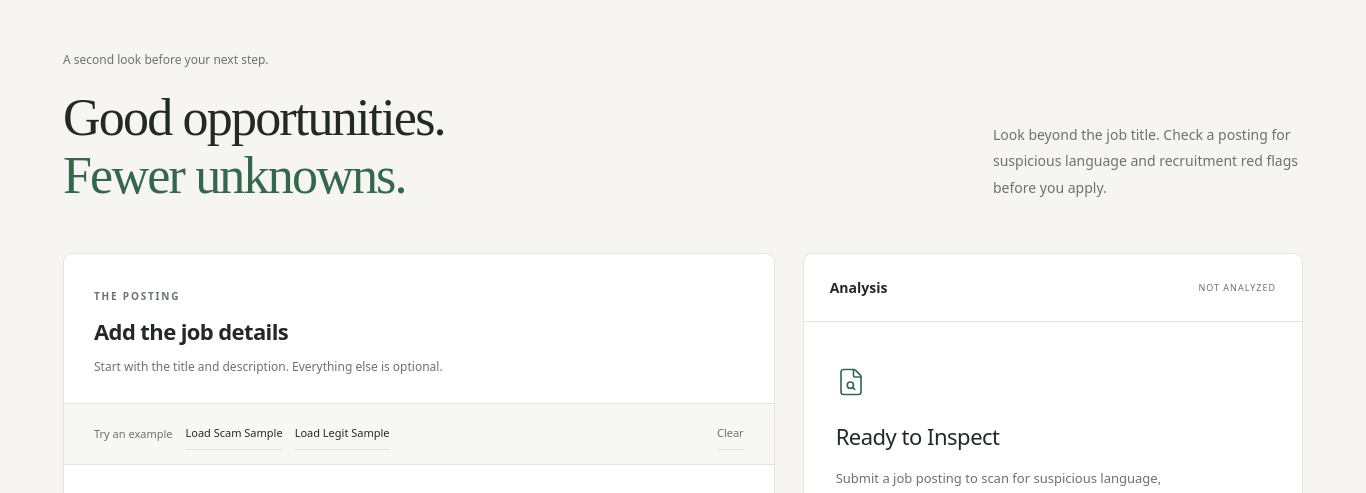
Test: workspace › ignores a delayed response after edits
The image size is (1366, 493).
Click the button "Load Scam Sample".
click(234, 434)  # box [186, 418, 283, 450]
(page scrolled)
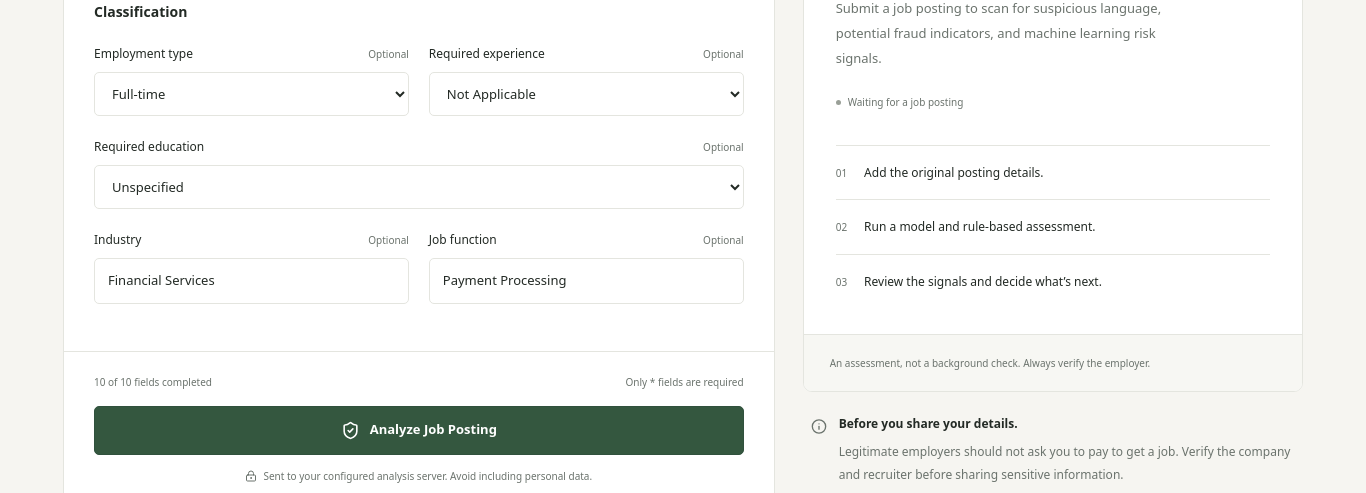
Click the button "Analyze Job Posting".
click(419, 430)  # box [94, 406, 744, 454]
(page scrolled)
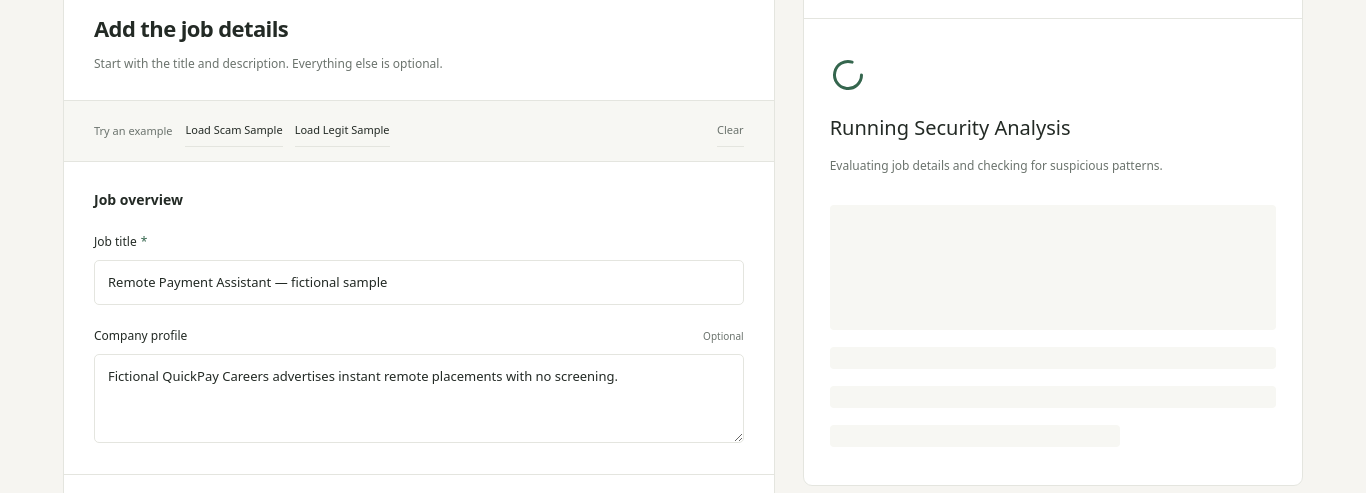
Replace the text in the field labelled "Job title *" with "New" at [419, 283], box [94, 260, 744, 305]
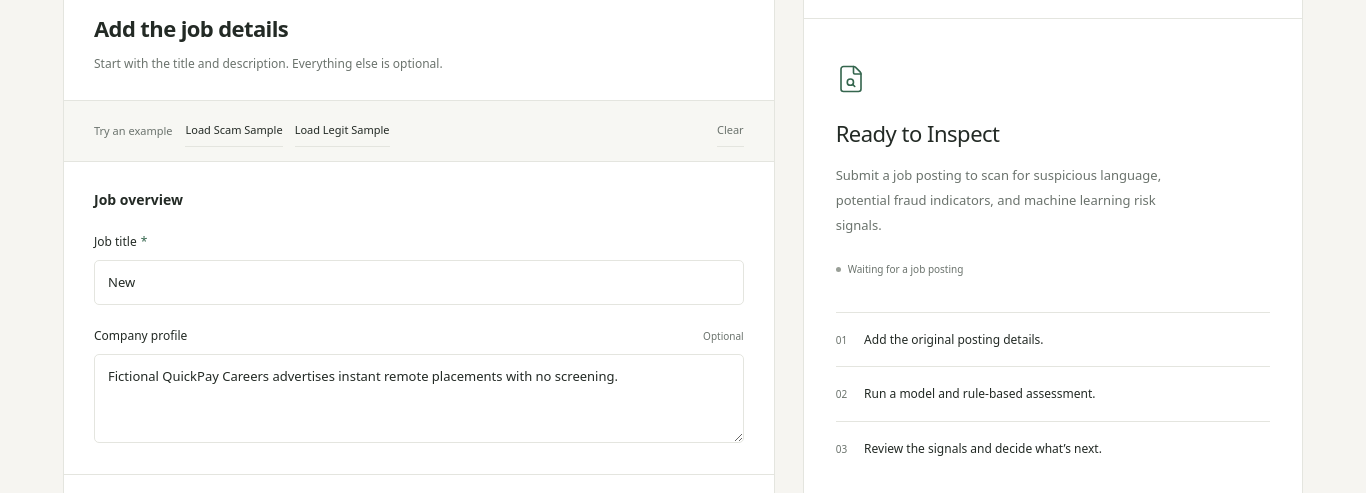
Result: the heading "Ready to Inspect" is shown at [836, 118, 1000, 148]
